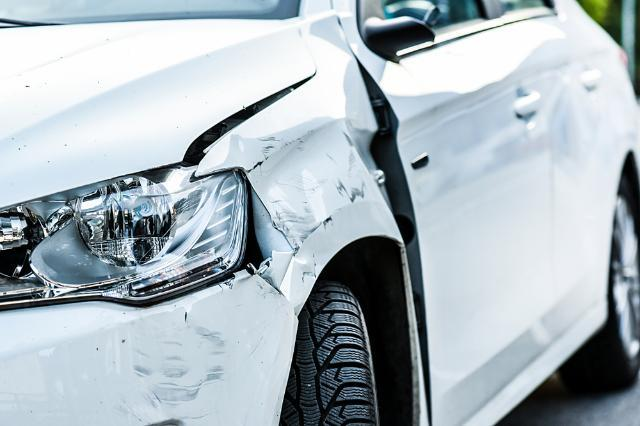lamp broken: (0, 173, 250, 309)
scratch: (245, 117, 370, 299), (125, 310, 227, 426)
